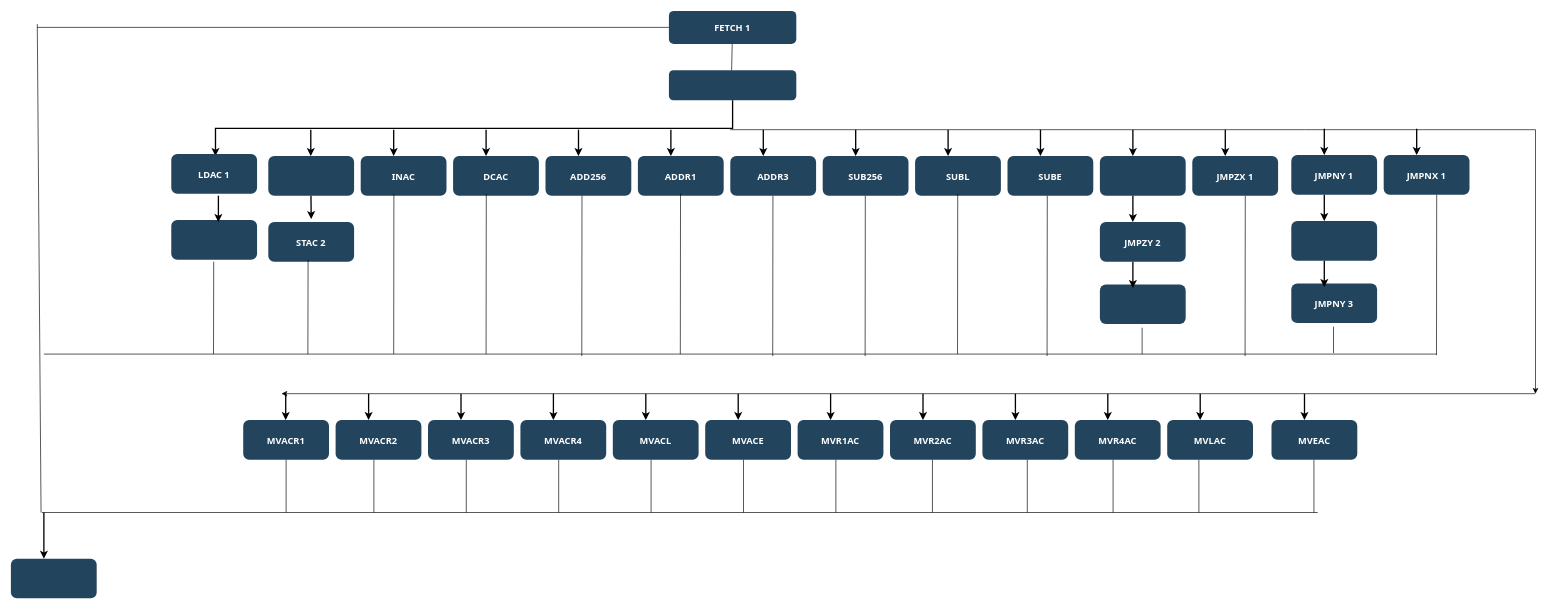
Image size: 1548x609. Some labels were removed from this diagram. The shapes that lost their labels are listed below. From the top down, each one's centre as x and y in pixels, then its label:
the point at 732,85: FETCH 2
the point at 311,175: STAC 1
the point at 1142,175: JMPZY 1
the point at 214,239: LDAC 2
the point at 1334,240: JMPNY 2
the point at 1142,304: JMPZY 3
the point at 53,578: END
